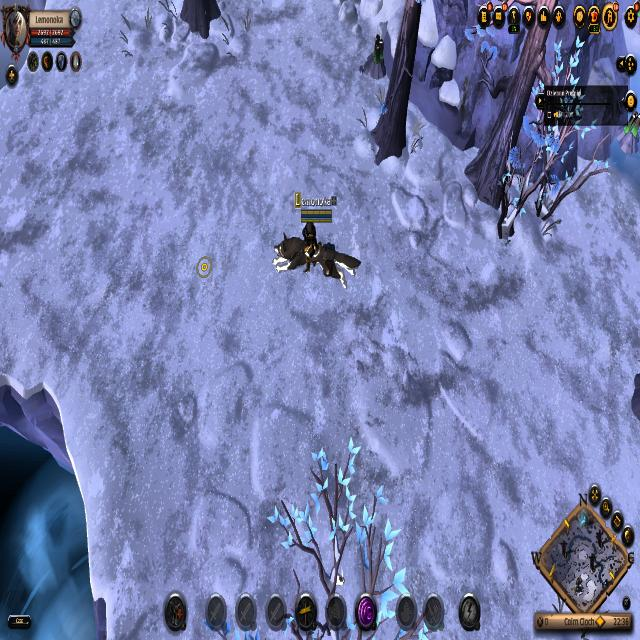ore tier 3: (363, 32, 387, 80)
